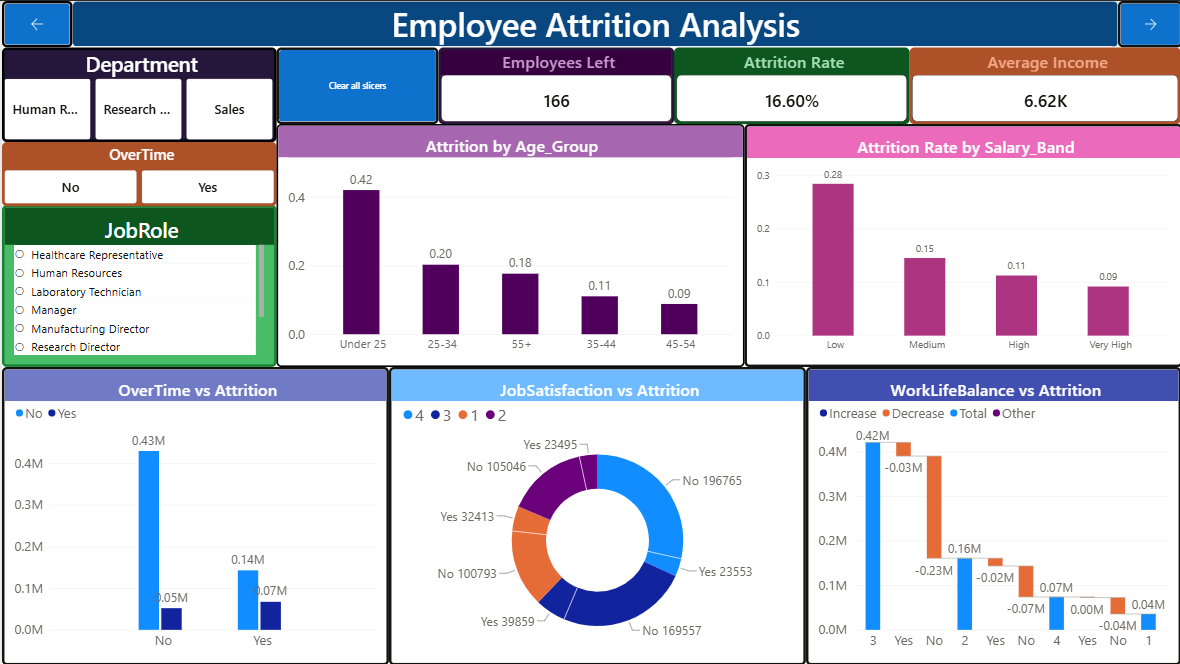

What the dashboard file says about the page in this screenshot:
{"tool":"powerbi","page":{"name":"Employee Attrition Analysis","canvas":[1920,1080],"ordinal":1},"visuals":[{"type":"textbox","title":"Employee Attrition Analysis","box":[114.7,0,1700.6,75.6],"z":0},{"type":"cardVisual","title":"Attrition Rate","fields":{"Data":["HR_Cleaned.Attrition Rate"]},"box":[1093,75.6,383.1,124.4],"z":1000},{"type":"cardVisual","title":"Employees Left","fields":{"Data":["HR_Cleaned.Employees Left"]},"box":[710,75.6,383.1,124.4],"z":2000},{"type":"cardVisual","title":"Average Income","fields":{"Data":["HR_Cleaned.Average Income"]},"box":[1476.1,75.6,441.6,124.4],"z":3000},{"type":"advancedSlicerVisual","fields":{"Values":["HR_Cleaned.Department"]},"box":[0,75.6,446.5,153.7],"z":4000},{"type":"listSlicer","fields":{"Values":["HR_Cleaned.JobRole"]},"box":[0,331.8,446.5,263.5],"z":5000},{"type":"advancedSlicerVisual","fields":{"Values":["HR_Cleaned.Gender"]},"box":[0,1307.6,265.9,93.8],"z":6000},{"type":"advancedSlicerVisual","fields":{"Values":["HR_Cleaned.OverTime"]},"box":[0,229.3,446.5,104.9],"z":7000},{"type":"clusteredColumnChart","title":"Attrition by Age_Group","fields":{"Category":["HR_Cleaned.Age_Group"],"Y":["HR_Cleaned.Attrition Rate"]},"box":[446.5,200.1,761.2,395.3],"z":8000},{"type":"clusteredColumnChart","fields":{"Y":["HR_Cleaned.Attrition Rate"],"Category":["HR_Cleaned.Salary_Band"]},"box":[1207.7,200.1,712.4,395.3],"z":9000},{"type":"clusteredColumnChart","title":"OverTime vs Attrition","fields":{"Category":["HR_Cleaned.OverTime"],"Y":["Sum(HR_Cleaned.EmployeeNumber)"],"Series":["HR_Cleaned.Attrition"]},"box":[0,595.3,629.5,485.5],"z":10000},{"type":"donutChart","title":"JobSatisfaction vs Attrition","fields":{"Category":["HR_Cleaned.JobSatisfaction"],"Y":["Sum(HR_Cleaned.EmployeeNumber)"],"Series":["HR_Cleaned.Attrition"]},"box":[629.5,595.3,678.3,485.5],"z":11000},{"type":"waterfallChart","title":"WorkLifeBalance vs Attrition","fields":{"Category":["HR_Cleaned.WorkLifeBalance"],"Y":["Sum(HR_Cleaned.EmployeeNumber)"],"Breakdown":["HR_Cleaned.Attrition"]},"box":[1307.7,595.3,610,485.5],"z":12000},{"type":"waterfallChart","title":" BusinessTravel vs Attrition","fields":{"Y":["Sum(HR_Cleaned.EmployeeNumber)"],"Category":["HR_Cleaned.BusinessTravel"],"Breakdown":["HR_Cleaned.Attrition"]},"box":[2205.5,538.1,353.5,265.9],"z":13000},{"type":"actionButton","box":[0,0,114.7,75.6],"z":14000},{"type":"actionButton","box":[1815.2,0,104.9,75.6],"z":15000},{"type":"actionButton","box":[446.5,75.6,263.5,124.4],"z":16000}]}

Visuals, with their boxes in screenshot pixels (x1, y1, x2, y2), scaled from the page's 1920x1080 canvas onto the 1180x664 screenshot:
"Employee Attrition Analysis" textbox: (x1=70, y1=0, x2=1116, y2=46)
"Attrition Rate" cardVisual: (x1=672, y1=46, x2=907, y2=123)
"Employees Left" cardVisual: (x1=436, y1=46, x2=672, y2=123)
"Average Income" cardVisual: (x1=907, y1=46, x2=1179, y2=123)
advancedSlicerVisual - HR_Cleaned.Department: (x1=0, y1=46, x2=274, y2=141)
listSlicer - HR_Cleaned.JobRole: (x1=0, y1=204, x2=274, y2=366)
advancedSlicerVisual - HR_Cleaned.OverTime: (x1=0, y1=141, x2=274, y2=205)
"Attrition by Age_Group" clusteredColumnChart: (x1=274, y1=123, x2=742, y2=366)
clusteredColumnChart - HR_Cleaned.Attrition Rate x HR_Cleaned.Salary_Band: (x1=742, y1=123, x2=1179, y2=366)
"OverTime vs Attrition" clusteredColumnChart: (x1=0, y1=366, x2=387, y2=663)
"JobSatisfaction vs Attrition" donutChart: (x1=387, y1=366, x2=804, y2=663)
"WorkLifeBalance vs Attrition" waterfallChart: (x1=804, y1=366, x2=1179, y2=663)
actionButton: (x1=0, y1=0, x2=70, y2=46)
actionButton: (x1=1116, y1=0, x2=1179, y2=46)
actionButton: (x1=274, y1=46, x2=436, y2=123)
